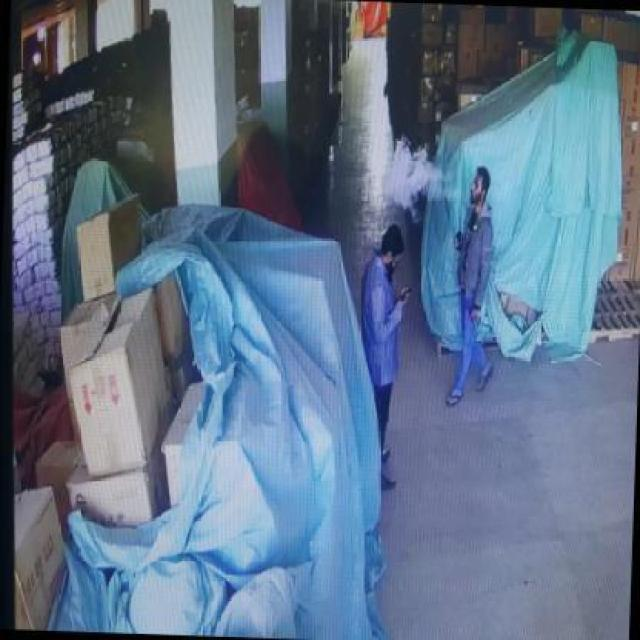fire: (378, 132, 457, 225)
